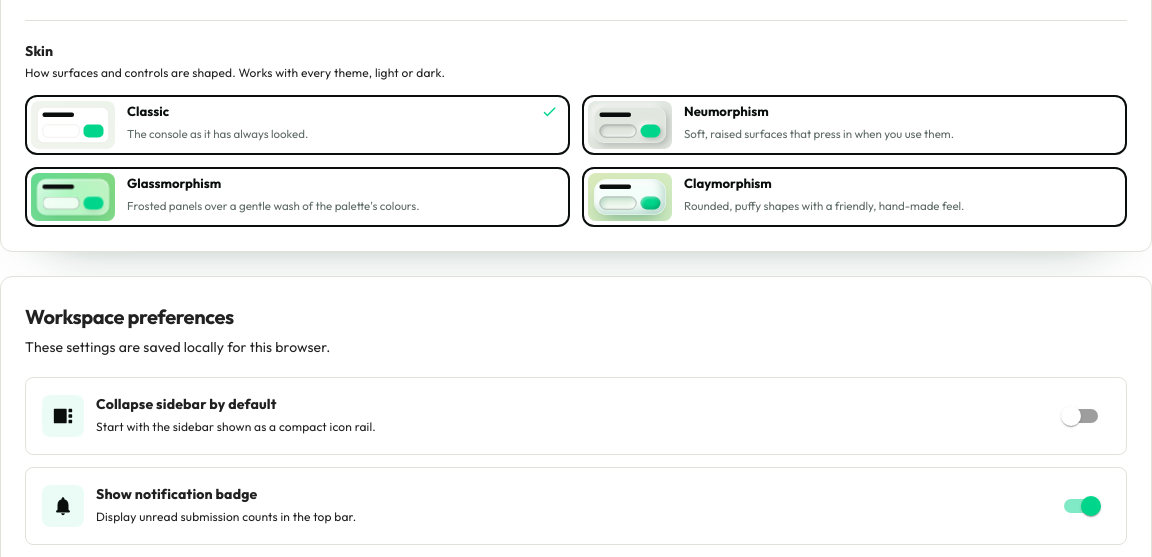
Test: Settings: Appearance › sets the skin when Glassmorphism is chosen, and saves it
(page scrolled)
Click the radio button labelled "Glassmorphism" at coordinates (298, 197), box x1=25 y1=167 x2=570 y2=227
(page scrolled)
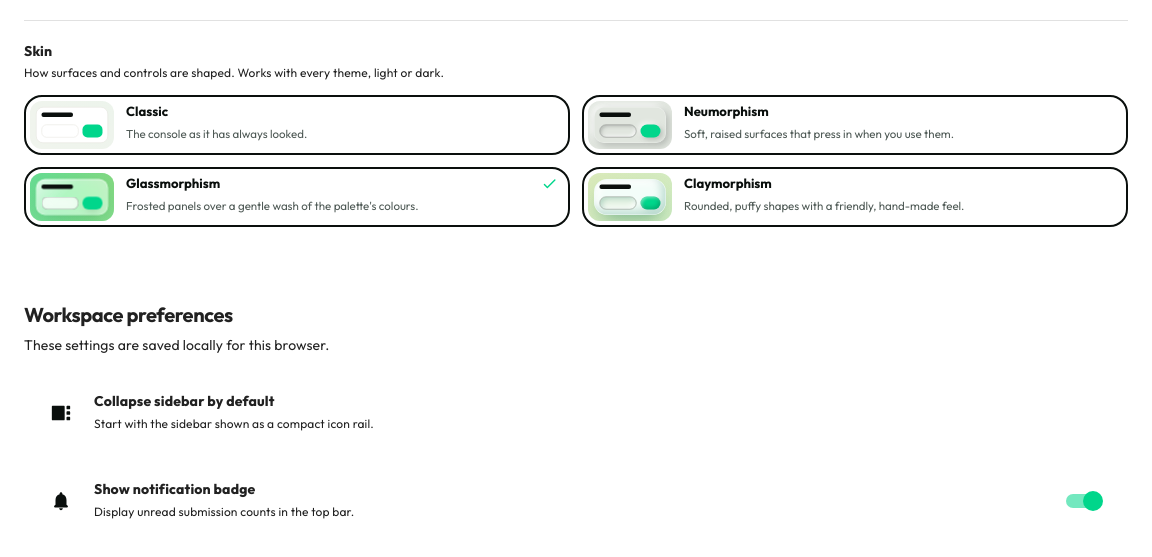
Now the radio button labelled "Classic The console as it has always looked." is not checked, box x1=24 y1=95 x2=570 y2=155
